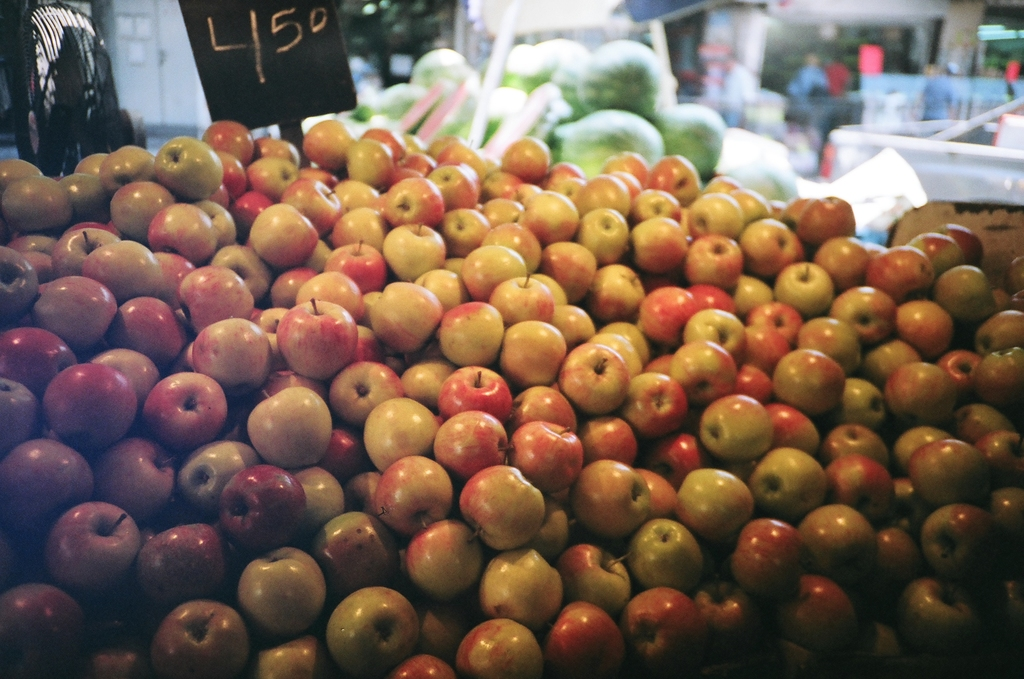Apple: (0, 116, 1023, 678), (141, 375, 222, 453)
